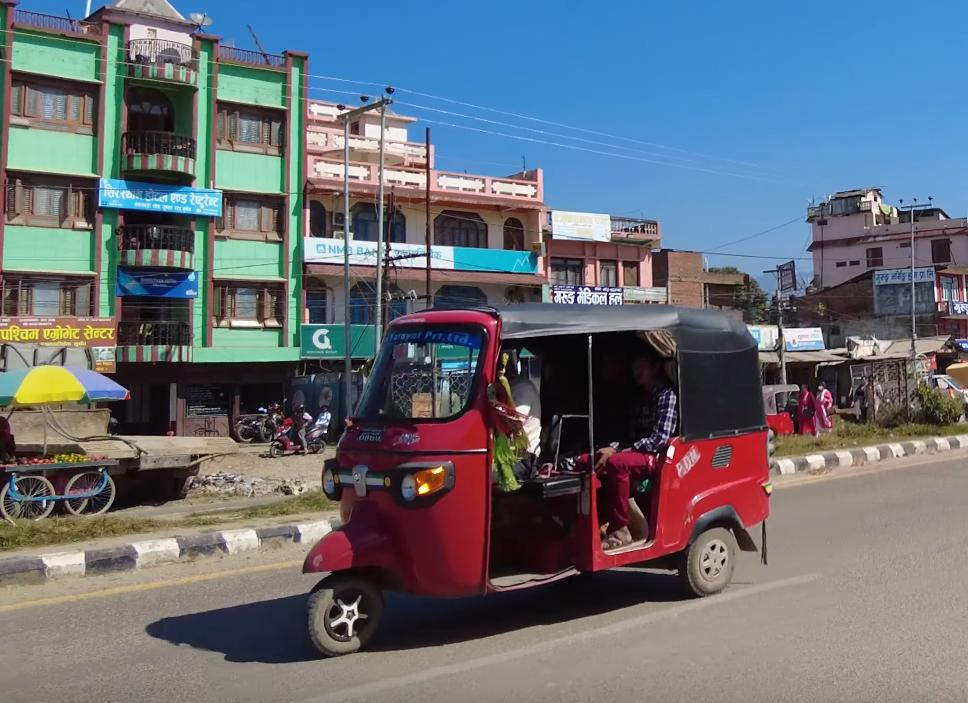auto_rickshaw: (290, 291, 782, 661)
scooter: (271, 420, 330, 460)
